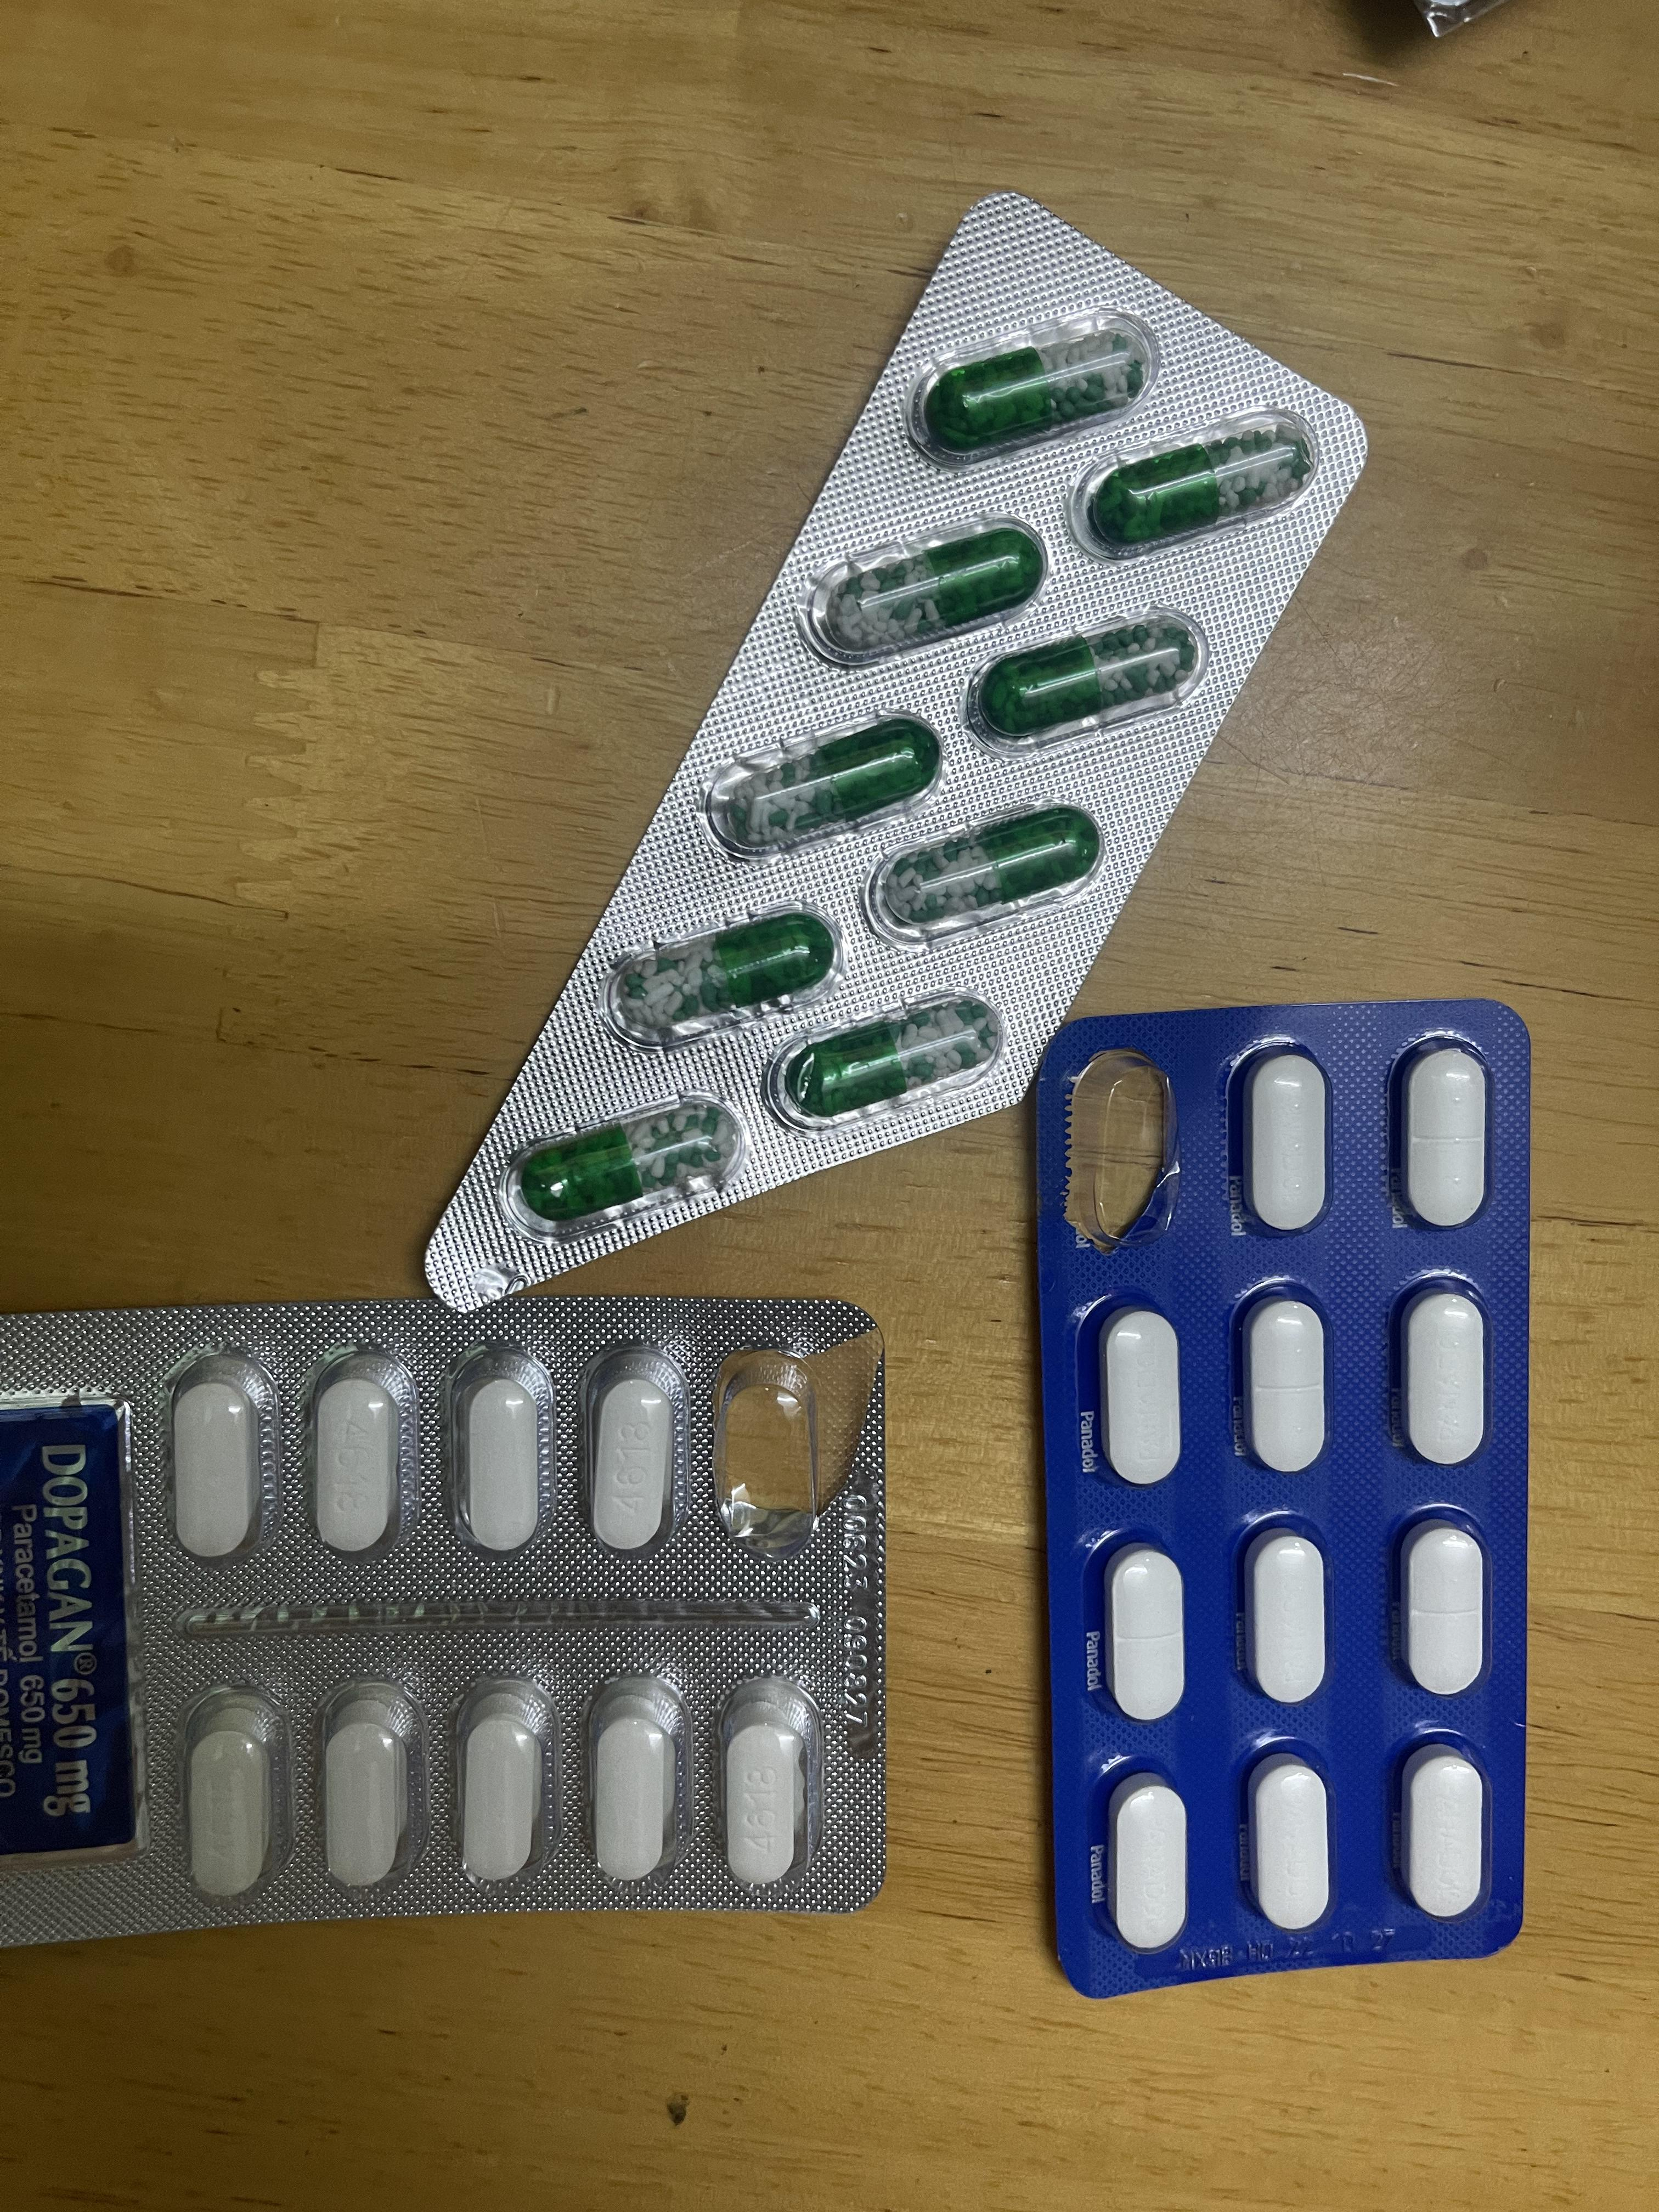Paracetamol_350mg: (1405, 1047, 1490, 1230), (1403, 1291, 1488, 1472), (1246, 1052, 1330, 1233), (1249, 1752, 1331, 1932), (1246, 1298, 1328, 1477), (1405, 1524, 1486, 1700), (1246, 1531, 1328, 1707), (1403, 1747, 1485, 1921), (1103, 1308, 1182, 1487), (1110, 1775, 1188, 1952), (1108, 1547, 1185, 1724)
Paracetamol_500mg: (582, 1346, 683, 1557), (166, 1360, 267, 1561), (181, 1695, 279, 1900), (307, 1359, 406, 1555), (321, 1689, 413, 1892), (455, 1353, 545, 1557), (589, 1681, 678, 1886), (721, 1698, 809, 1888), (458, 1693, 544, 1886)
Paracetamol_650mg: (807, 516, 1044, 671), (1082, 413, 1317, 556), (974, 611, 1206, 745), (875, 801, 1101, 937), (612, 907, 833, 1042), (784, 991, 1004, 1122), (523, 1097, 734, 1221), (929, 329, 1141, 448), (730, 721, 934, 841)
